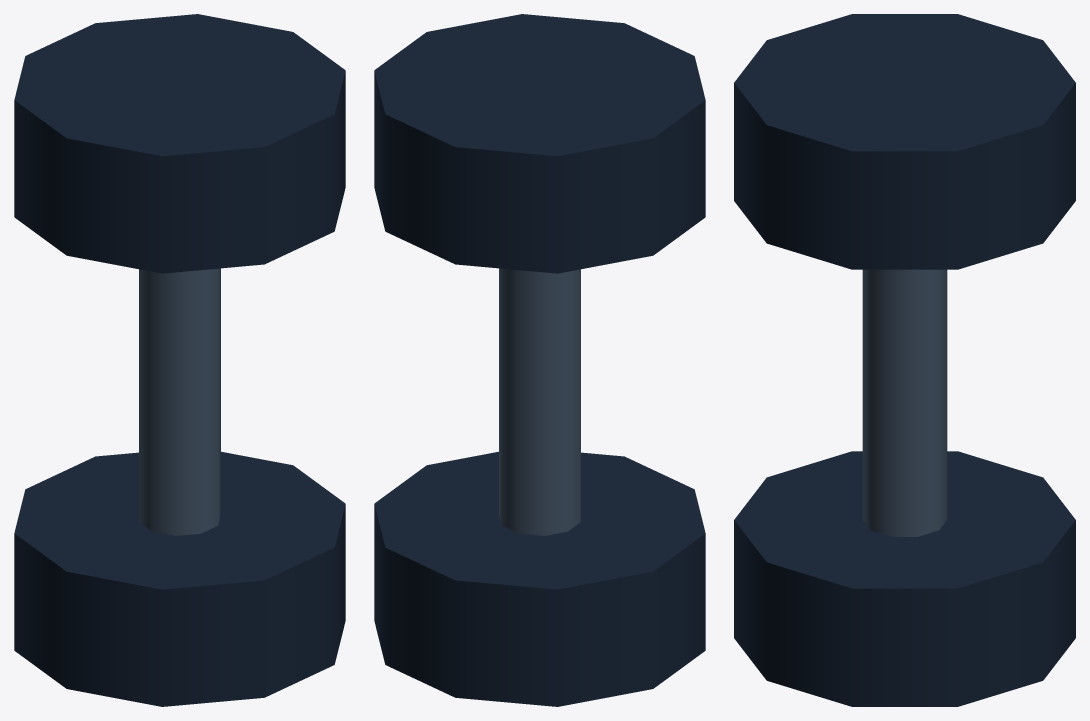
File: dumbbell_curl.glb
The picture shows the model from 3 angles, left to right: view 1: azimuth 30°, elevation 25°; view 2: azimuth 150°, elevation 25°; view 3: azimuth 270°, elevation 25°; orthographic projection.
Parts seen in each view (by area): view 1: Ldumbbell; view 2: Ldumbbell; view 3: Ldumbbell.
Part boxes in pixels (left/top/right/bottom): Ldumbbell: left=14, top=14, right=345, bottom=706; Ldumbbell: left=374, top=14, right=705, bottom=706; Ldumbbell: left=734, top=14, right=1075, bottom=706.
Size of the model in its own units: 0.1617 by 0.305 by 0.17.
